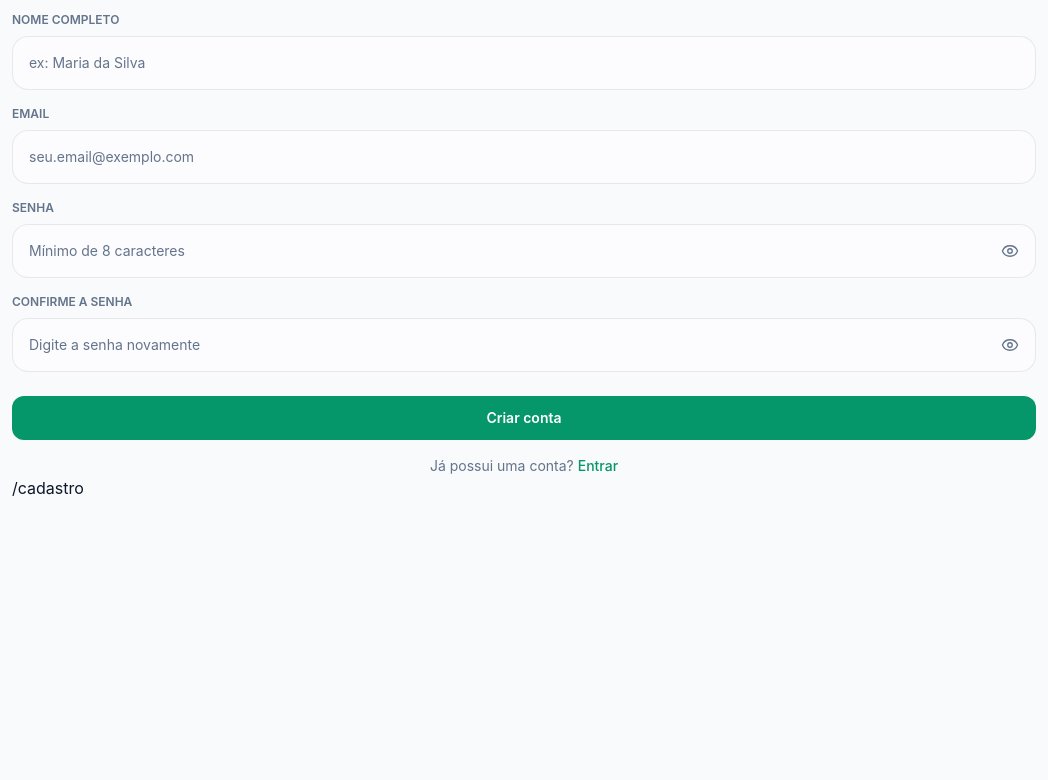
Test case: RegisterForm › bloqueia o cadastro quando a confirmação de senha diverge
This screenshot has width=1048, height=780.
In the password field labelled "Senha": x=509, y=251 [29, 241, 989, 261], type "password123"
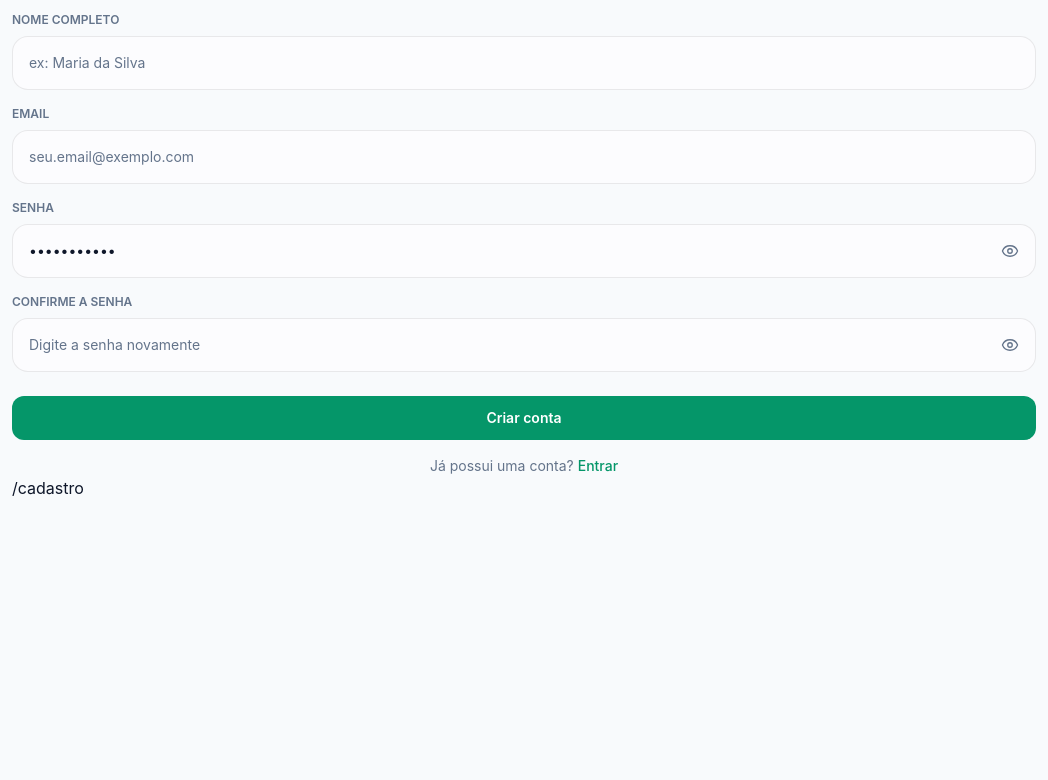
In the password field labelled "Confirme a senha": x=509, y=345 [29, 335, 989, 355], type "password456"
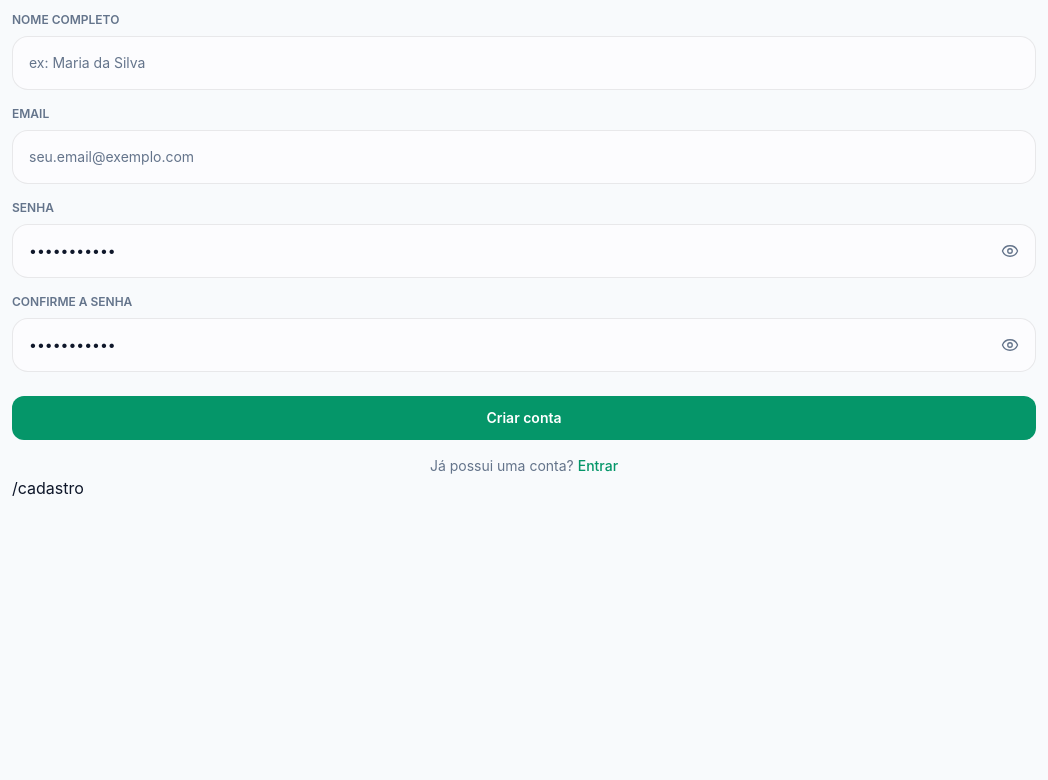
Click the button "Criar conta": x=524, y=418 [12, 396, 1036, 440]
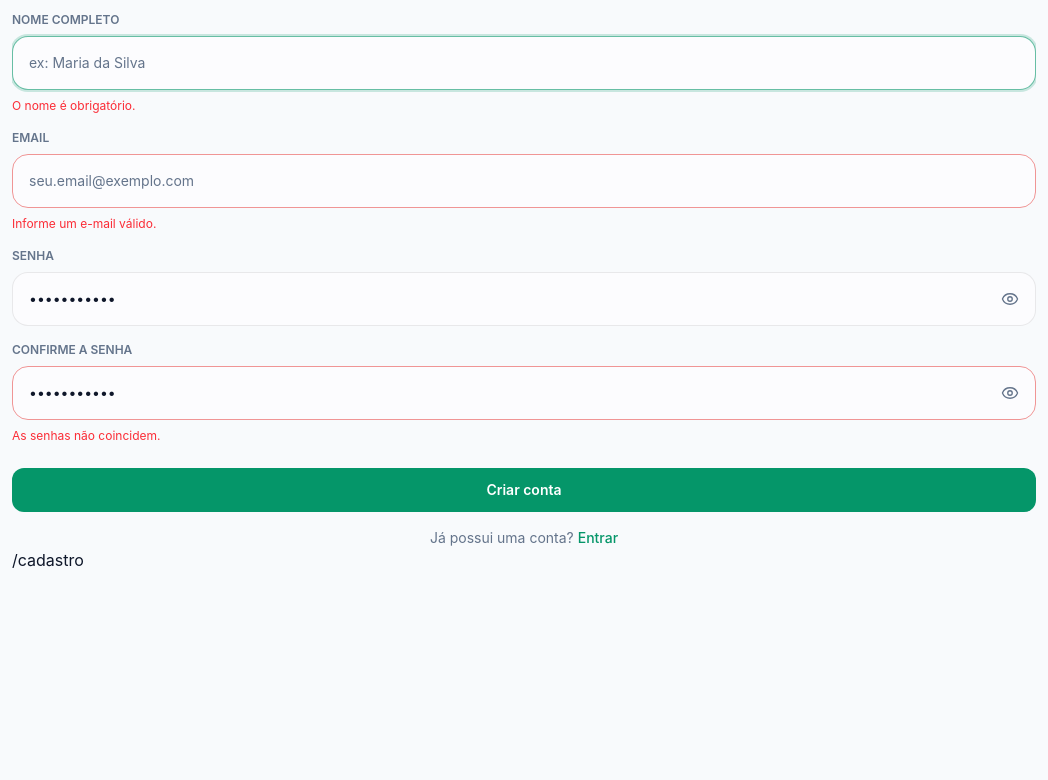
Result: the text "As senhas não coincidem." is shown at [12, 428, 160, 443]
